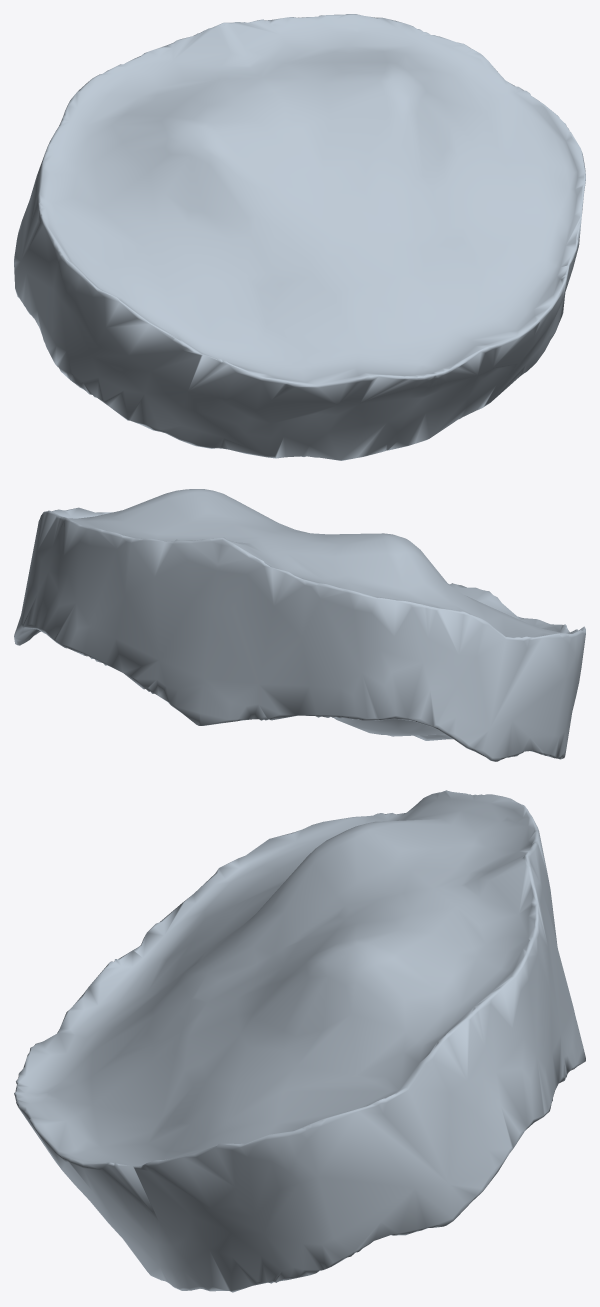
Rendered from intervertebral-disc-l5-s1.glb.
3 views of the same model, one above another, from view 1: azimuth 30°, elevation 25°; view 2: azimuth 150°, elevation 25°; view 3: azimuth 270°, elevation 25° (orthographic). The views are drawn at different scales.
Visible parts, largest first — view 1: Intervertebral disc L5-S1; view 2: Intervertebral disc L5-S1; view 3: Intervertebral disc L5-S1.
Part boxes in pixels (x1,y1,x2,y2): Intervertebral disc L5-S1: (14,14,585,460); Intervertebral disc L5-S1: (14,489,585,761); Intervertebral disc L5-S1: (14,790,585,1292).
Size of the model in its own units: 0.0507 by 0.0293 by 0.0405.
